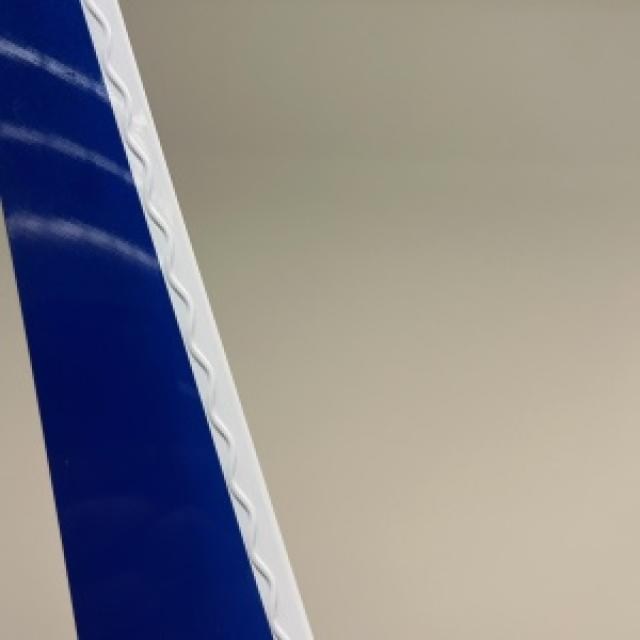healthy: (0, 0, 311, 638)
